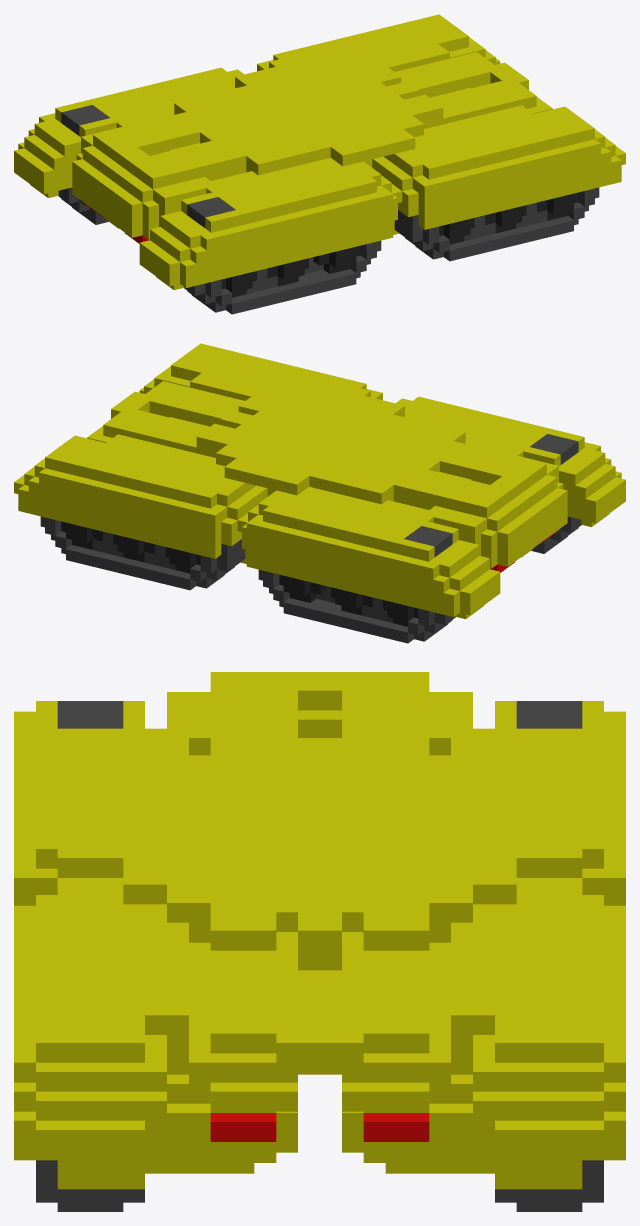
File: MammothTankBody.obj
3 views of the same model, one above another, from view 1: azimuth 30°, elevation 25°; view 2: azimuth 150°, elevation 25°; view 3: azimuth 270°, elevation 25° (orthographic). The views are drawn at different scales.
Size of the model in its own units: 4.4 by 1 by 2.8.
Materials: 1 (1 with a texture image).
